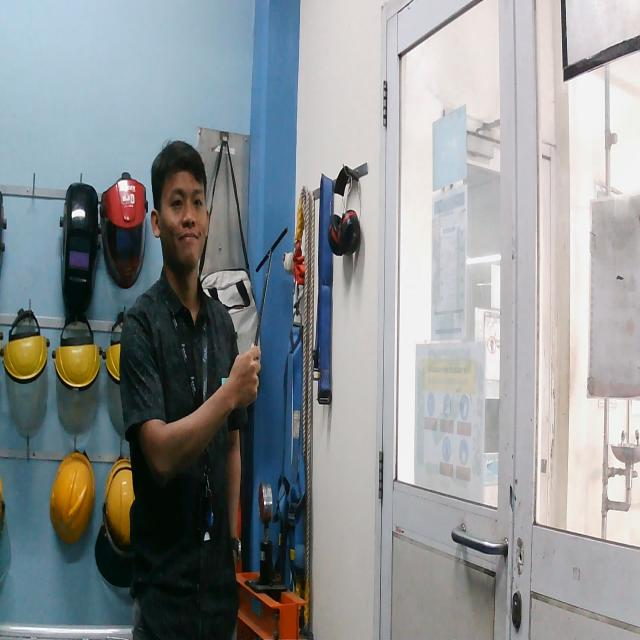kunci_t: (237, 215, 293, 405)
